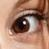eye: (14, 18, 28, 33)
